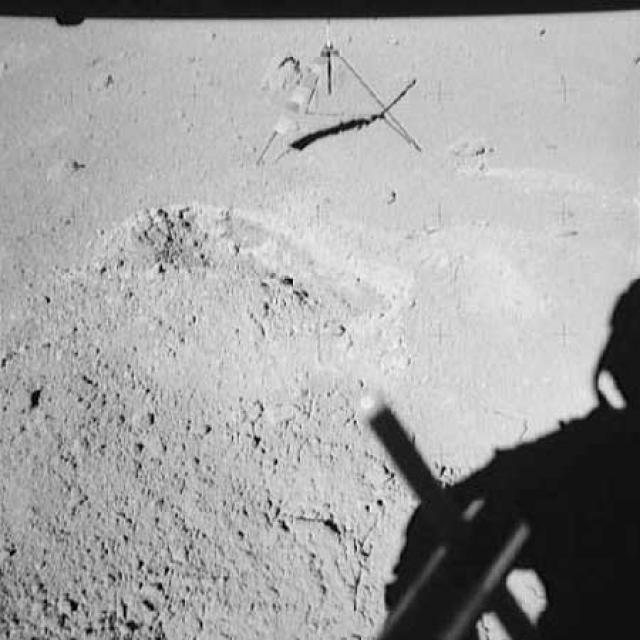artifact: (253, 6, 418, 166)
rock: (38, 154, 95, 183), (453, 131, 493, 159)
